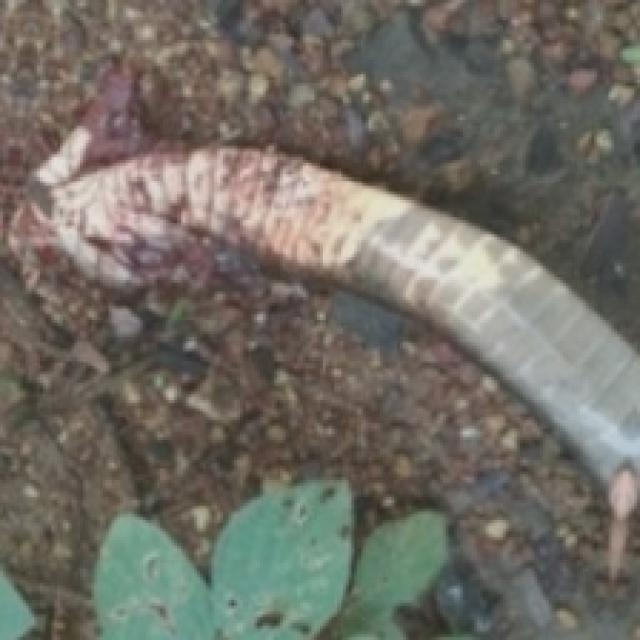king cobra: (17, 80, 637, 637), (409, 346, 543, 534), (474, 560, 557, 634), (540, 477, 591, 531)
